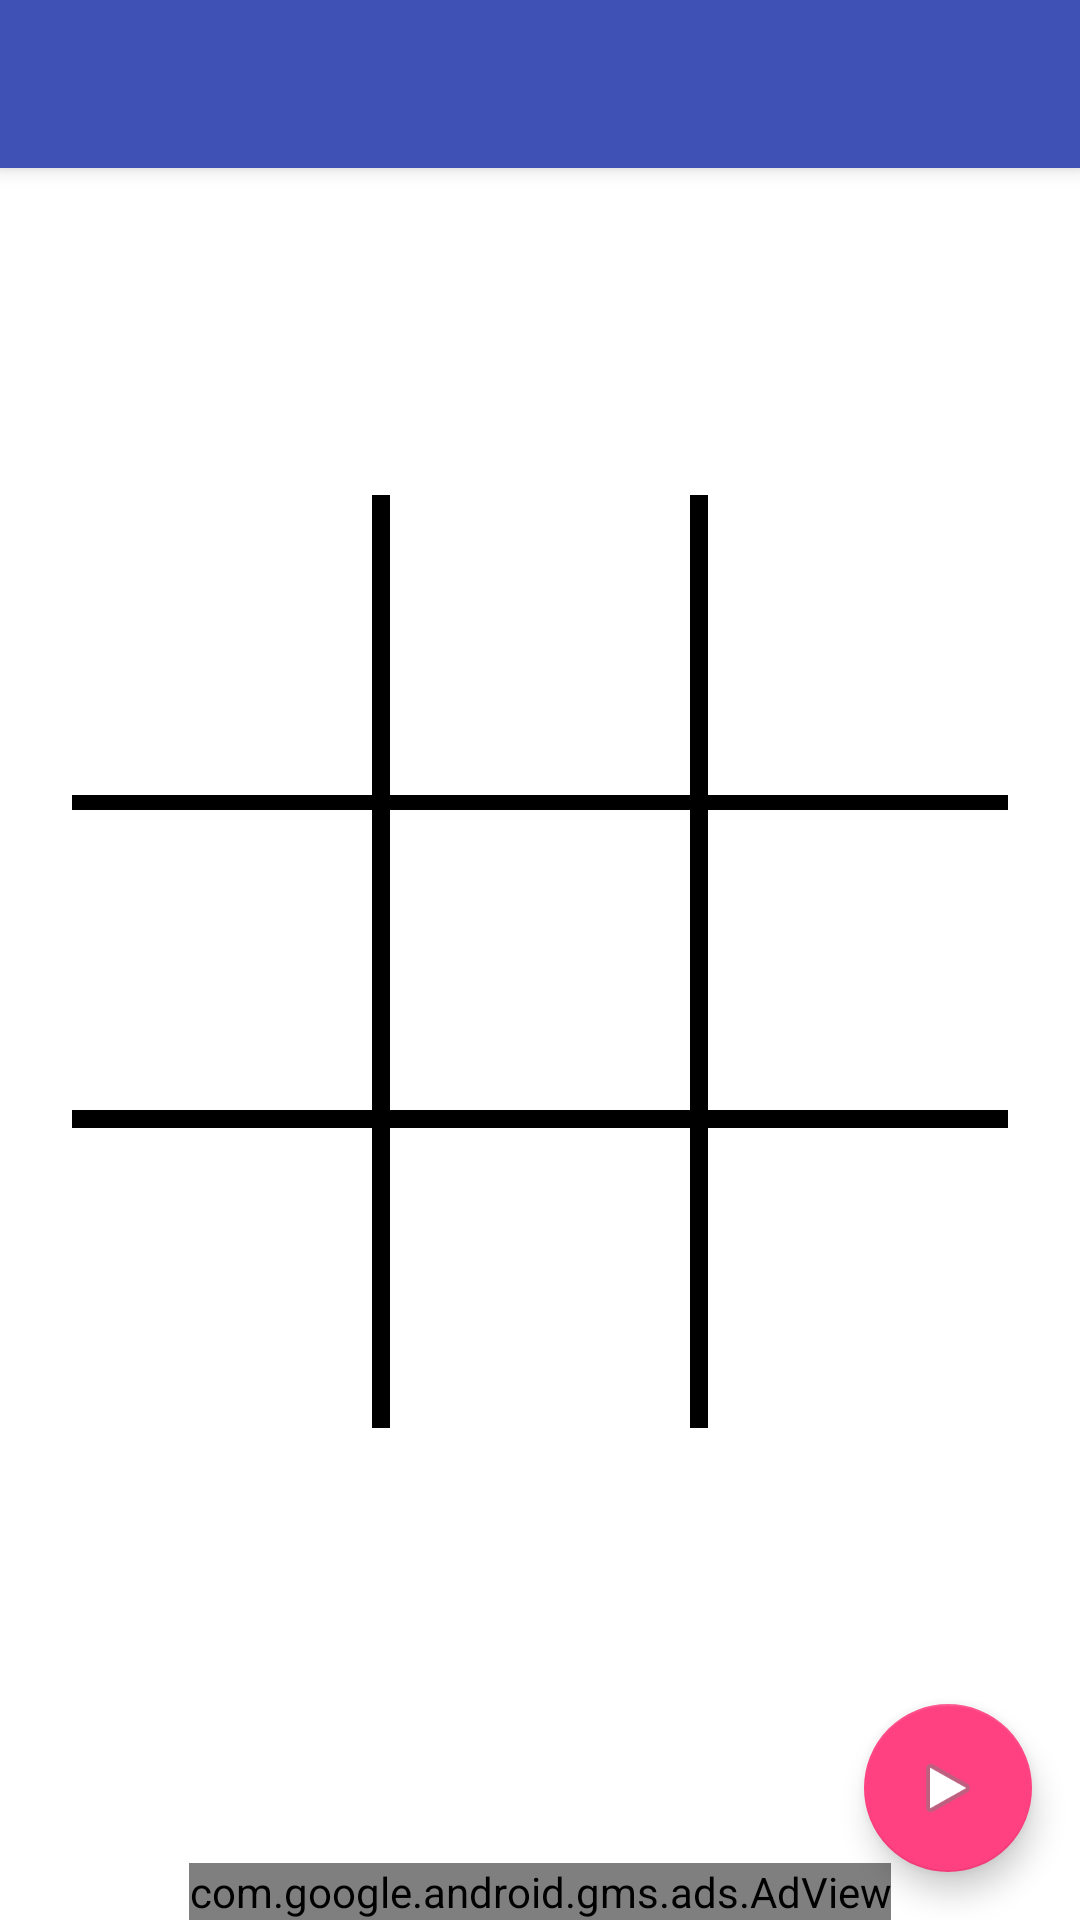

Point at icon controls on the screen. Image size 1080w x 1920h, points as point (x, y).
play: point (948, 1788)
